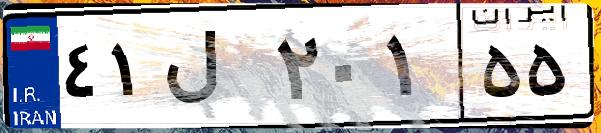0: (330, 28, 385, 110)
1: (385, 28, 445, 110), (110, 28, 158, 98)
2: (270, 28, 330, 110)
4: (57, 26, 110, 100)
5: (475, 38, 525, 113), (525, 38, 570, 115)
ل: (158, 20, 270, 120)
